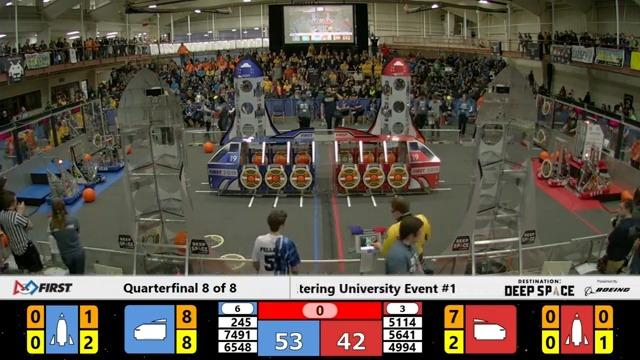robot: (569, 141, 611, 195), (535, 137, 575, 187), (573, 118, 609, 168), (70, 142, 107, 188), (46, 162, 85, 203), (93, 136, 129, 171)
